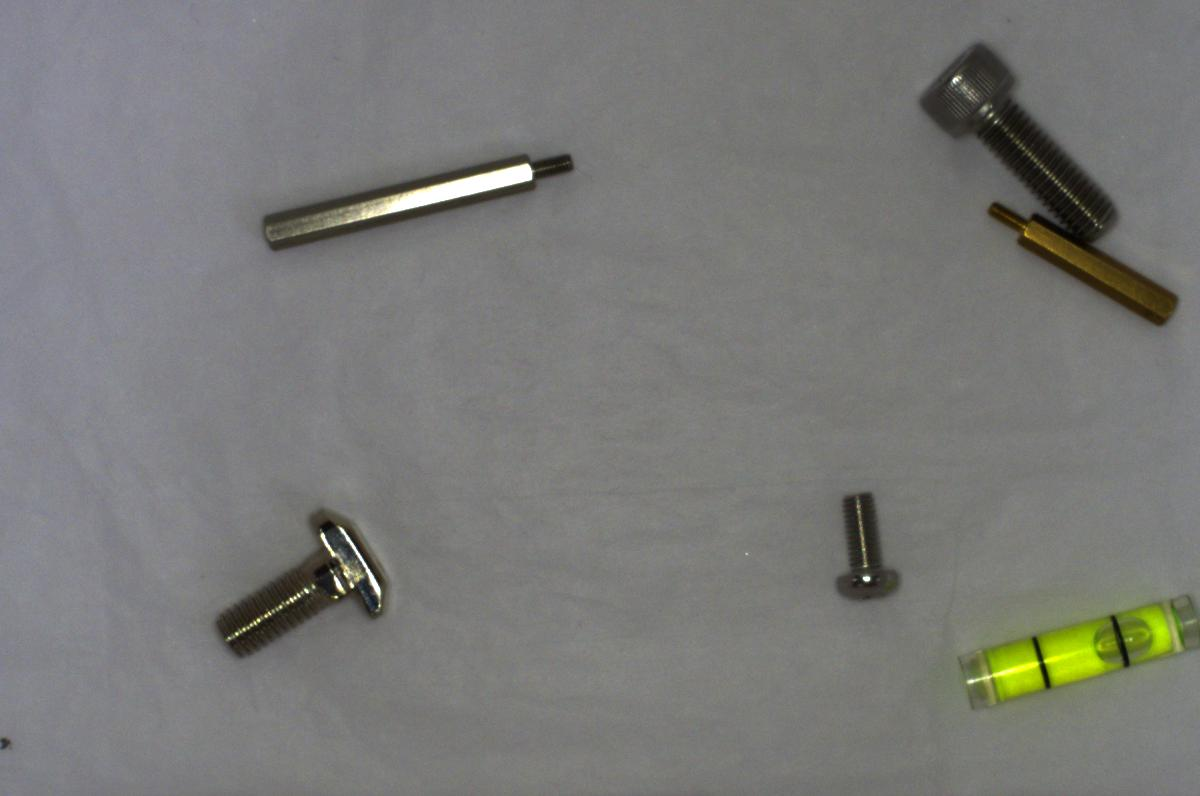Hexagon pillar: (977, 194, 1187, 328)
Hexagon screw: (907, 40, 1128, 242)
Hexagonal steel column: (258, 145, 577, 255)
Horizontal bubble: (950, 586, 1199, 715)
Round head screw: (832, 483, 902, 606)
T-shaped screw: (205, 499, 395, 663)
